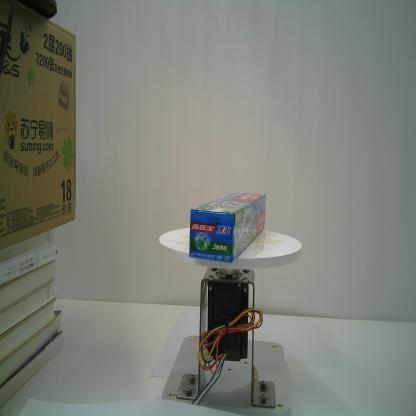Personal Hygiene: (188, 189, 267, 266)
